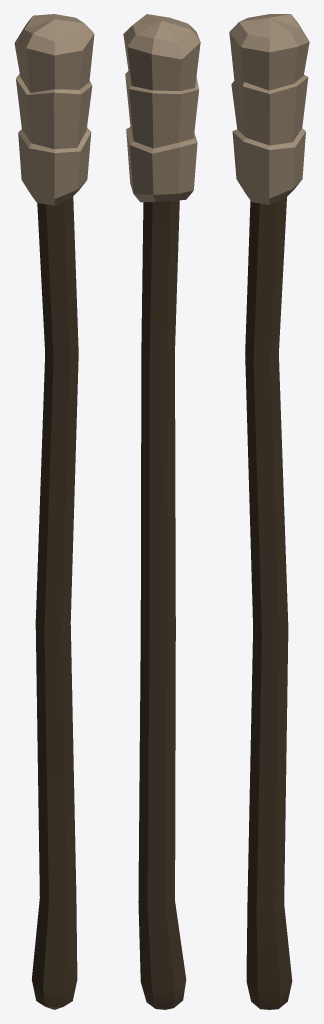
File: SM_Prop_Cannon_Pole_01.glb
3 renders of one model, left to right at view 1: azimuth 90°, elevation 25°; view 2: azimuth 210°, elevation 25°; view 3: azimuth 270°, elevation 25°, orthographic.
Parts seen in each view (by area): view 1: SM_Prop_Cannon_Pole_01; view 2: SM_Prop_Cannon_Pole_01; view 3: SM_Prop_Cannon_Pole_01.
Boxes of the visible parts, x1,y1,x2,y2 form: SM_Prop_Cannon_Pole_01: [14, 14, 94, 1009]; SM_Prop_Cannon_Pole_01: [123, 14, 200, 1009]; SM_Prop_Cannon_Pole_01: [229, 14, 309, 1009].
Bounding box in the file's own units: 0.00174 × 0.0237 × 0.00174.
